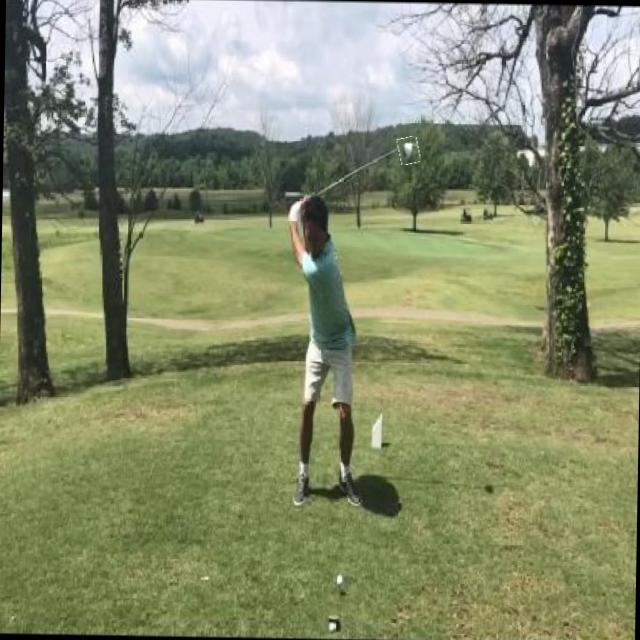club head: (398, 136, 420, 164)
